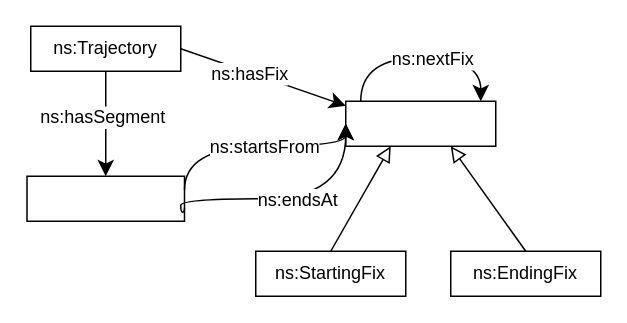
This 627x323 diagram has some shape labels left out. Here are the shapes that lost their labels. From the top down, the centre of each, then its label:
At point 420,123: "ns: Fix".
At point 105,198: "ns: Segment".
